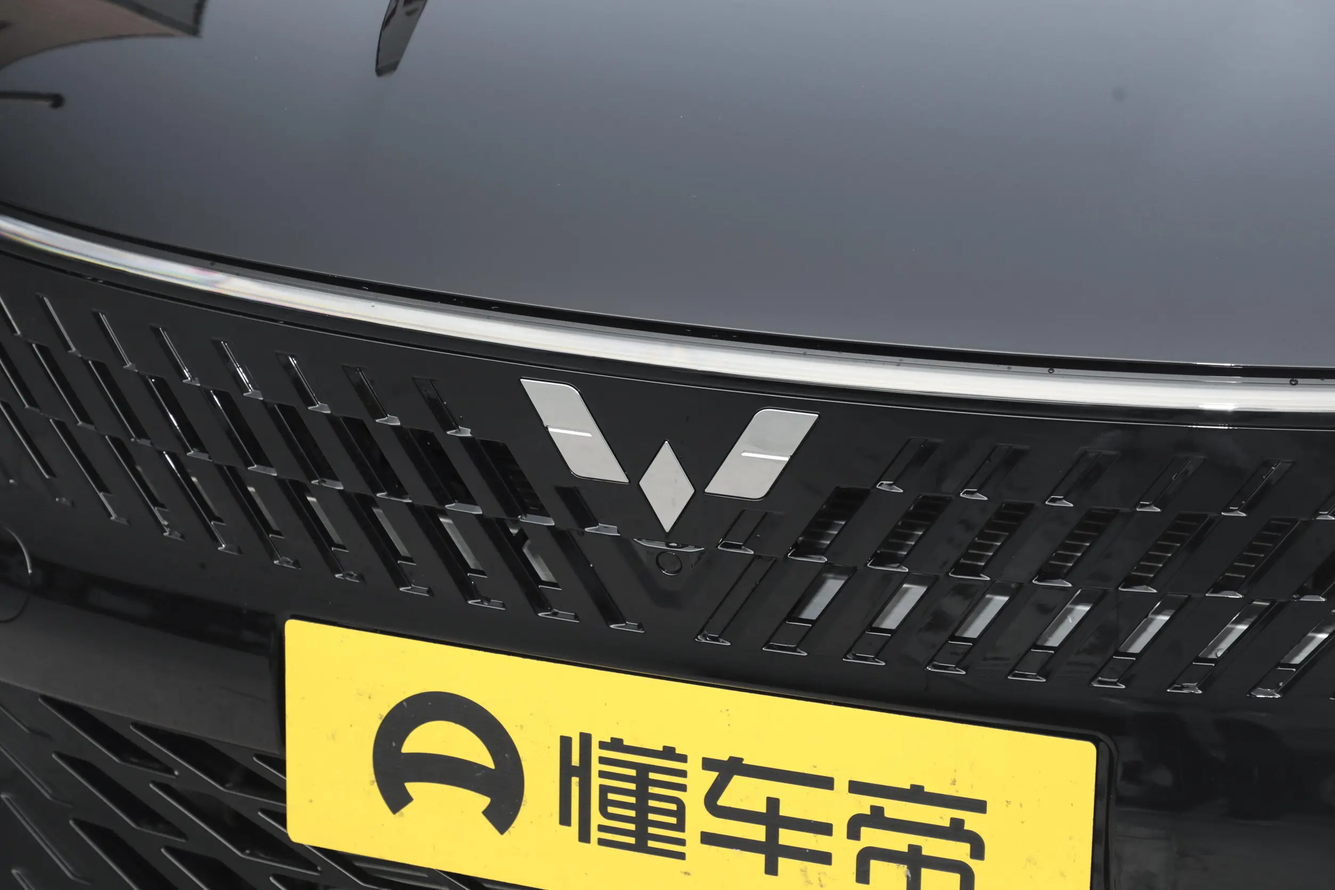SGMW: (520, 380, 818, 532)
